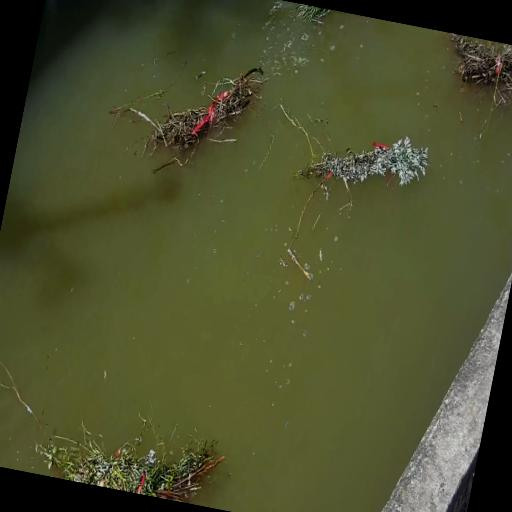twig: (40, 404, 220, 507), (123, 52, 266, 170), (287, 108, 440, 214), (428, 31, 512, 127)
